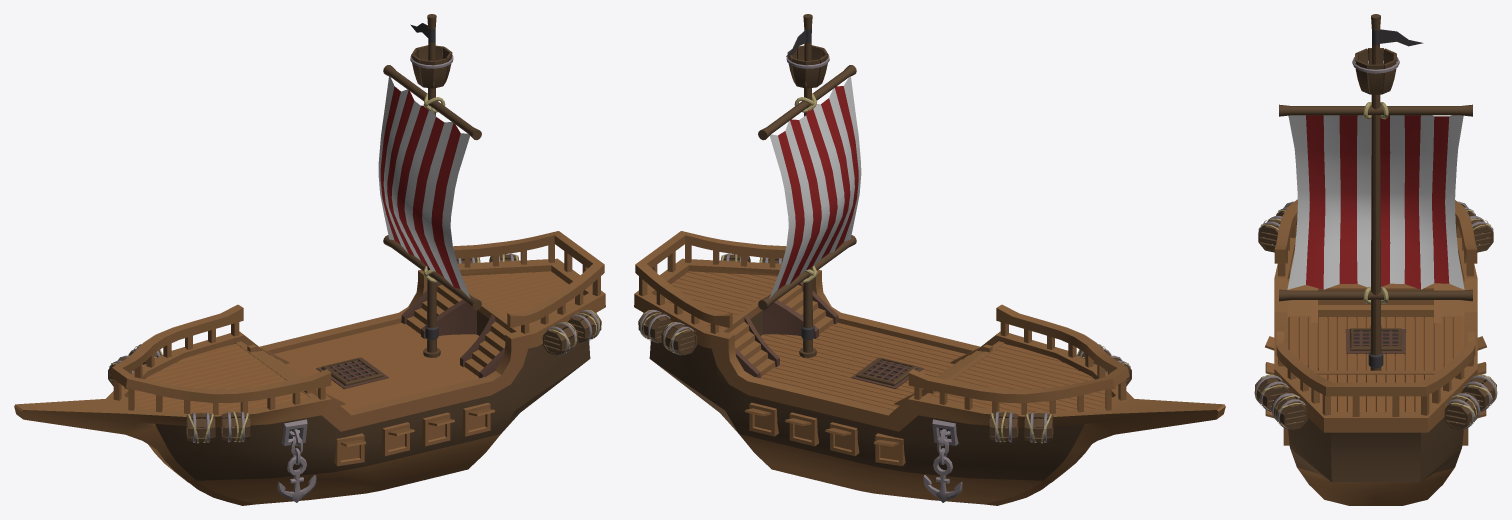
Rendered from Ship_Sloop_playable.gltf.
3 views of the same model, side by side, from view 1: azimuth 30°, elevation 25°; view 2: azimuth 150°, elevation 25°; view 3: azimuth 270°, elevation 25° (orthographic). The views are drawn at different scales.
Visible parts, largest first — view 1: Ship_Sloop_Static, Ship_Sloop_MainSail; view 2: Ship_Sloop_Static, Ship_Sloop_MainSail; view 3: Ship_Sloop_Static, Ship_Sloop_MainSail.
Boxes of the visible parts, x1,y1,x2,y2 form: Ship_Sloop_Static: (14,14,605,505); Ship_Sloop_MainSail: (378,76,470,298); Ship_Sloop_Static: (634,14,1225,505); Ship_Sloop_MainSail: (769,76,861,298); Ship_Sloop_Static: (1254,14,1497,505); Ship_Sloop_MainSail: (1287,115,1464,289).
Bounding box in the file's own units: 15.43 × 11.48 × 5.3.
1 material, 1 textured.
